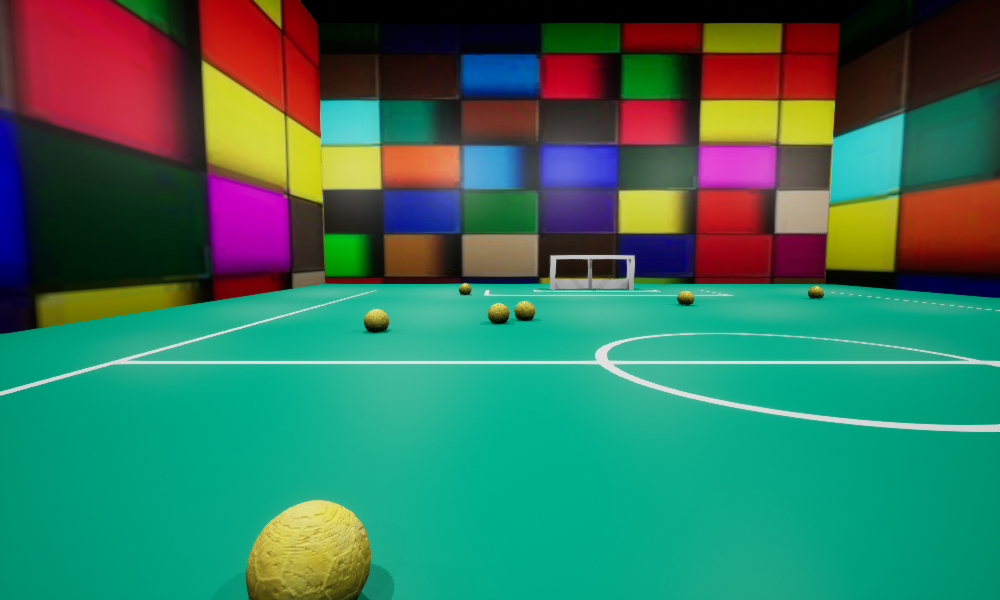b: (246, 500, 370, 599), (364, 309, 388, 331), (488, 303, 509, 322), (514, 301, 534, 319), (677, 291, 693, 304), (808, 286, 823, 298), (459, 283, 471, 294)
g: (550, 255, 634, 289)
